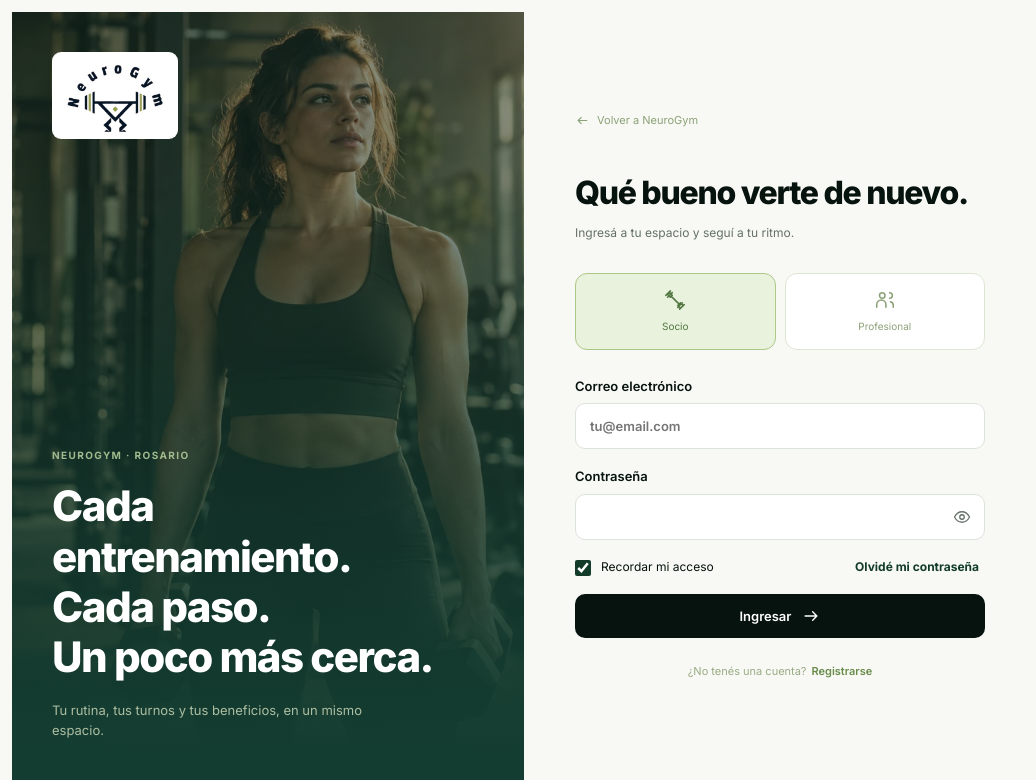
Test: componentes › muestra el error de credenciales que devuelve el backend
Type "socio@demo.com" into the field labelled "Correo electrónico" at {"x": 780, "y": 426}, box [575,403,985,449]
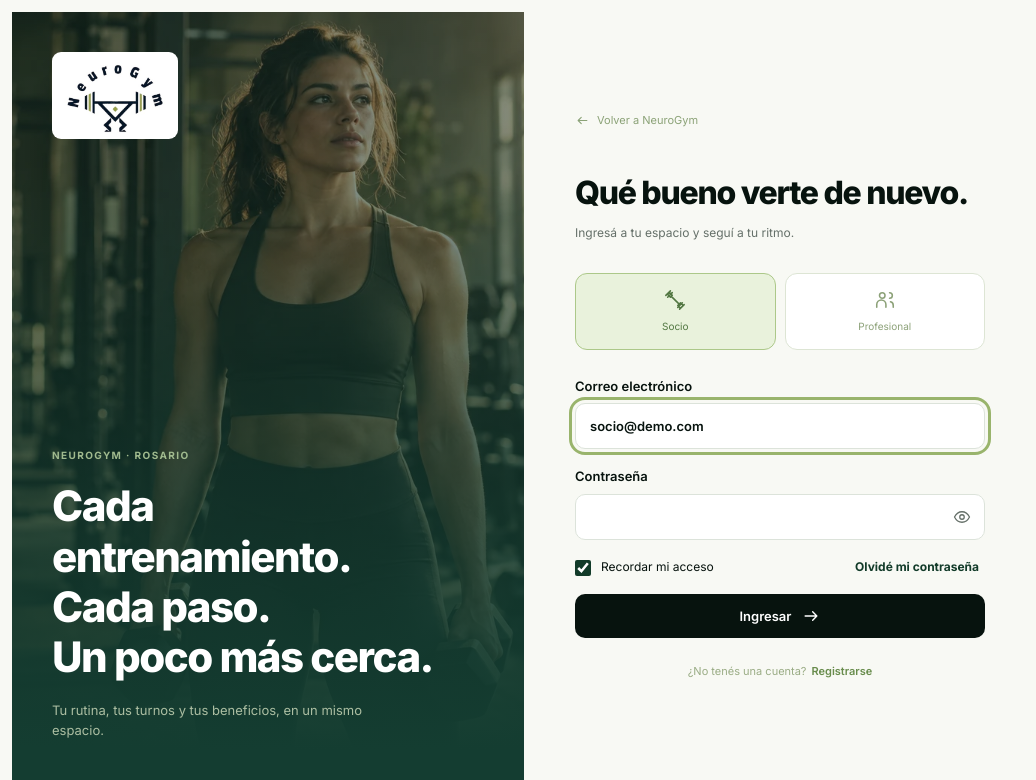
Type "incorrecta1" into the password field labelled "Contraseña" at {"x": 780, "y": 517}, box [575,494,985,540]
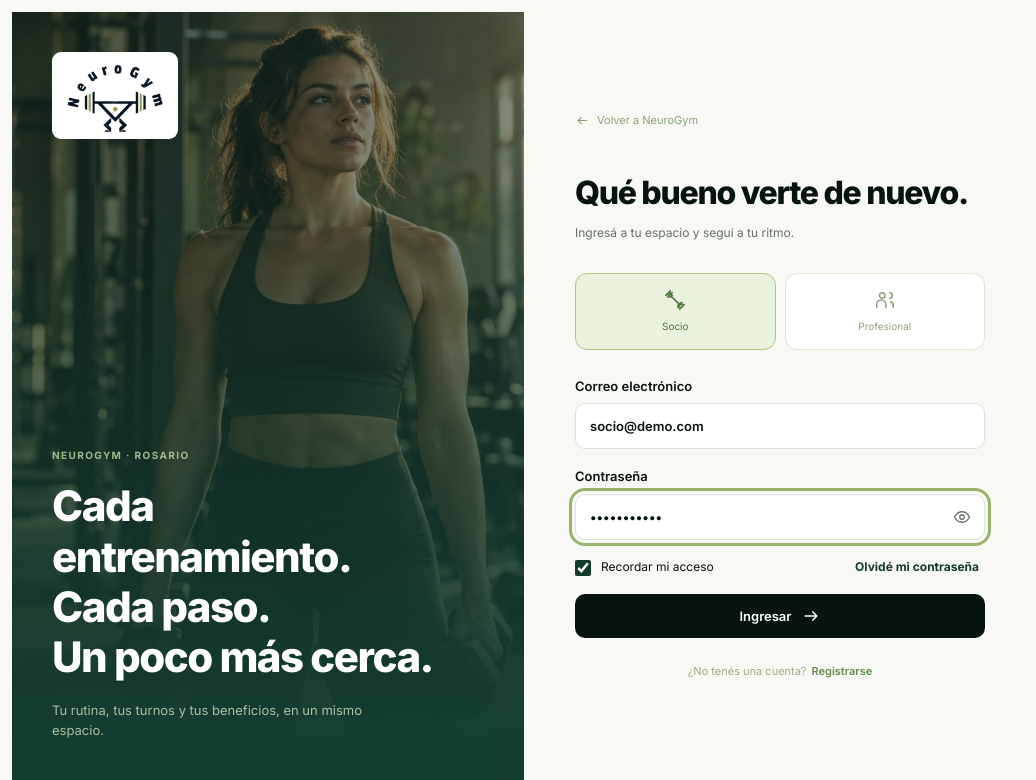
Click the button "Ingresar" at {"x": 780, "y": 616}, box [575,594,985,638]
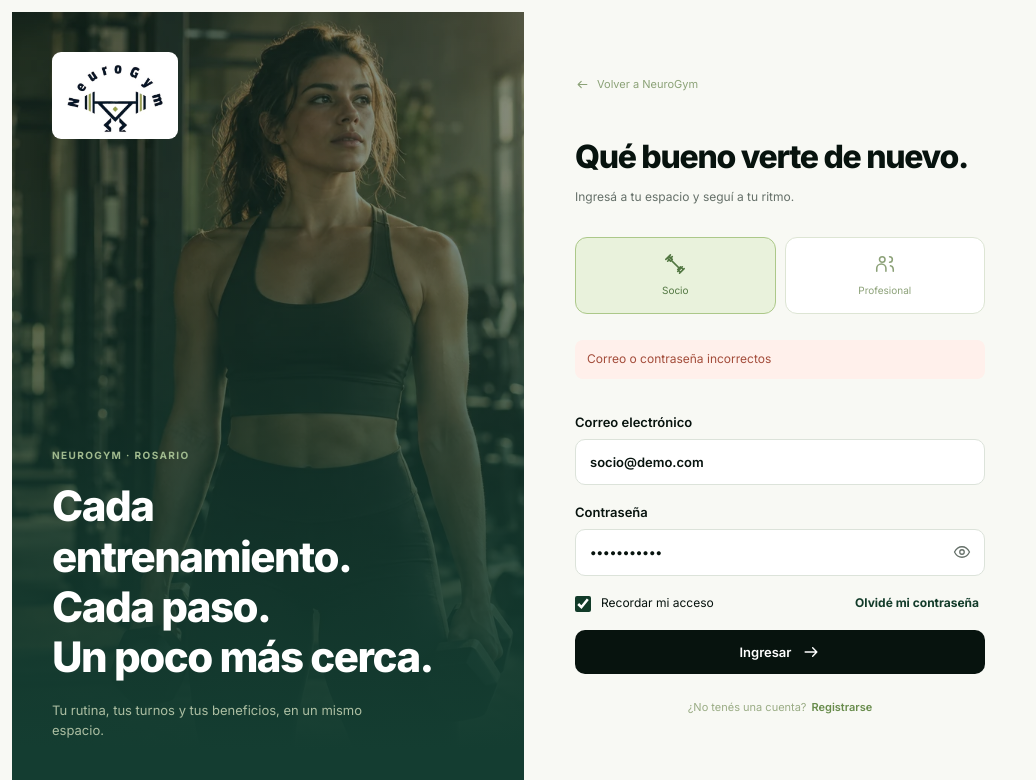
Expected: the message reads "Correo o contraseña incorrectos", [587,351,771,366]
